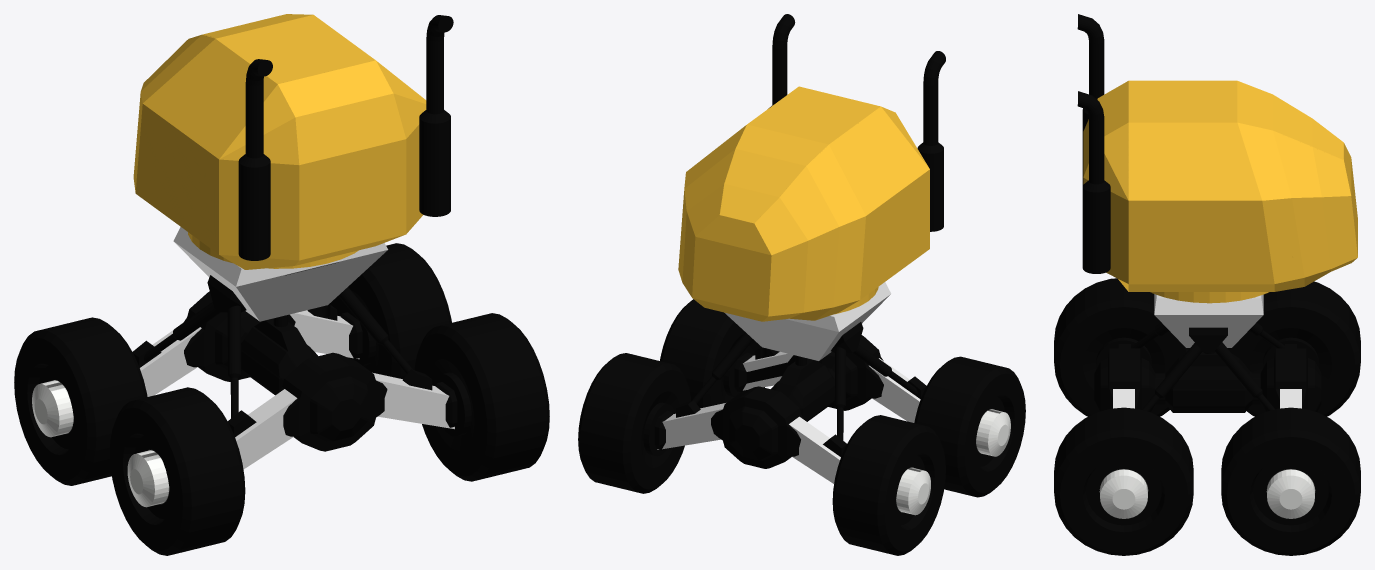
Rendered from wheeled_drone.glb.
3 views of the same model, side by side, from view 1: azimuth 30°, elevation 25°; view 2: azimuth 150°, elevation 25°; view 3: azimuth 270°, elevation 25° (orthographic). The views are drawn at different scales.
Visible parts, largest first — view 1: drone_turret, drone_body, LB_WHEEL, RB_WHEEL, LF_WHEEL, RF_WHEEL, drone_body_convcolonly.005, pipe.001, pipe.002, drone_body_convcolonly.001, drone_body_convcolonly.004, drone_body_convcolonly.002 (+1 smaller); view 2: drone_turret, drone_body, LF_WHEEL, RF_WHEEL, LB_WHEEL, RB_WHEEL, drone_body_convcolonly.005, pipe.001, drone_body_convcolonly.003, drone_body_convcolonly.002, pipe.002, drone_body_convcolonly.004 (+1 smaller); view 3: drone_turret, RF_WHEEL, RB_WHEEL, drone_body, LB_WHEEL, LF_WHEEL, pipe.002, drone_body_convcolonly.005, pipe.001, drone_body_convcolonly.001, drone_body_convcolonly.002.
Boxes of the visible parts, box(x1,y1,x2,y2) form: drone_turret: box(133, 14, 426, 269); drone_body: box(132, 262, 457, 451); LB_WHEEL: box(109, 387, 245, 555); RB_WHEEL: box(414, 313, 549, 481); LF_WHEEL: box(14, 317, 147, 485); RF_WHEEL: box(326, 243, 451, 379); drone_body_convcolonly.005: box(173, 227, 388, 321); pipe.001: box(238, 59, 272, 260); pipe.002: box(419, 15, 453, 216); drone_body_convcolonly.001: box(372, 372, 454, 429); drone_body_convcolonly.004: box(235, 389, 297, 469); drone_body_convcolonly.002: box(290, 310, 359, 359); drone_turret: box(678, 86, 929, 321); drone_body: box(654, 322, 926, 468); LF_WHEEL: box(832, 415, 945, 555); RF_WHEEL: box(578, 353, 690, 493); LB_WHEEL: box(914, 356, 1025, 497); RB_WHEEL: box(660, 299, 764, 408); drone_body_convcolonly.005: box(724, 282, 891, 360); pipe.001: box(917, 51, 945, 231); drone_body_convcolonly.003: box(789, 416, 840, 483); drone_body_convcolonly.002: box(657, 403, 725, 449); pipe.002: box(768, 14, 795, 108); drone_body_convcolonly.004: box(869, 358, 920, 422); drone_turret: box(1083, 80, 1357, 303); RF_WHEEL: box(1221, 407, 1360, 555); RB_WHEEL: box(1054, 407, 1193, 555); drone_body: box(1094, 322, 1321, 412); LB_WHEEL: box(1054, 278, 1189, 416); LF_WHEEL: box(1227, 281, 1360, 416); pipe.002: box(1077, 91, 1110, 273); drone_body_convcolonly.005: box(1154, 294, 1263, 347); pipe.001: box(1077, 14, 1104, 185); drone_body_convcolonly.001: box(1113, 389, 1134, 408); drone_body_convcolonly.002: box(1280, 389, 1301, 408).
Size of what is drawn, in the model's own units: 2.87 by 3.46 by 2.26.
3 materials, 3 textured.
